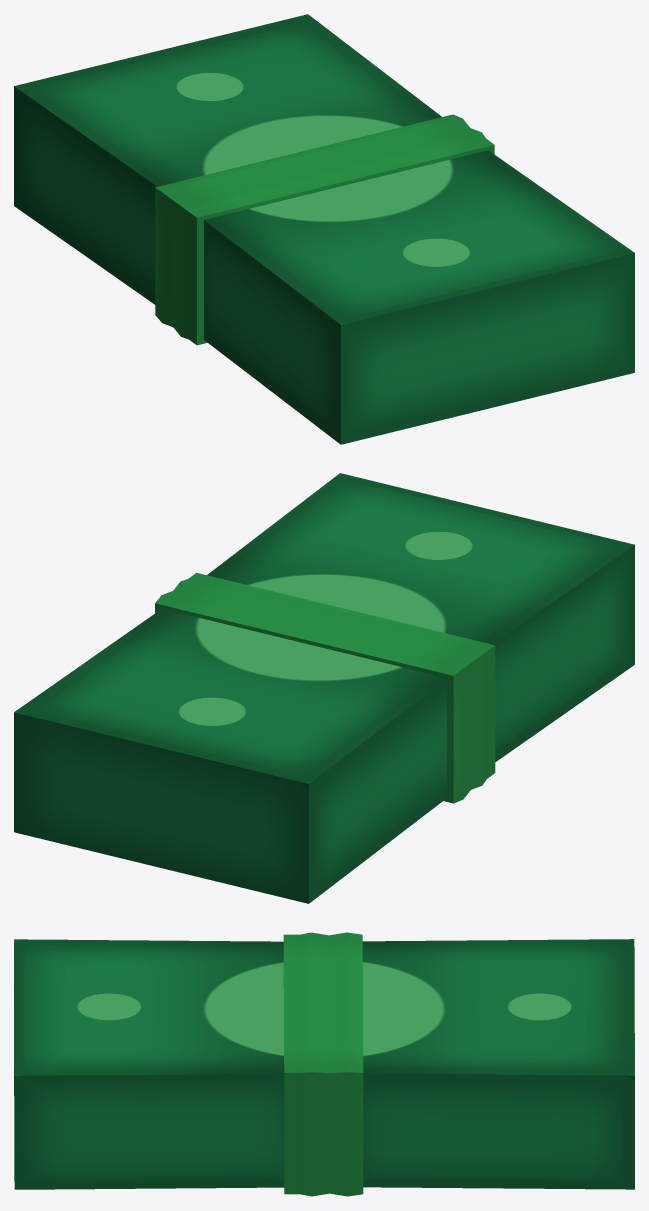
Rendered from money_002.fbx.
3 renders of one model, top to bottom at view 1: azimuth 30°, elevation 25°; view 2: azimuth 150°, elevation 25°; view 3: azimuth 270°, elevation 25°, orthographic. The views are drawn at different scales.
Parts seen in each view (by area): view 1: Money_stack_Money_Lowpoly1_UV1.005; view 2: Money_stack_Money_Lowpoly1_UV1.005; view 3: Money_stack_Money_Lowpoly1_UV1.005.
Boxes of the visible parts, bbox=[...] form: Money_stack_Money_Lowpoly1_UV1.005: bbox=[14, 14, 634, 444]; Money_stack_Money_Lowpoly1_UV1.005: bbox=[14, 473, 634, 903]; Money_stack_Money_Lowpoly1_UV1.005: bbox=[14, 932, 634, 1196].
Size of the model in its own units: 27.02 by 11.22 by 50.76.
